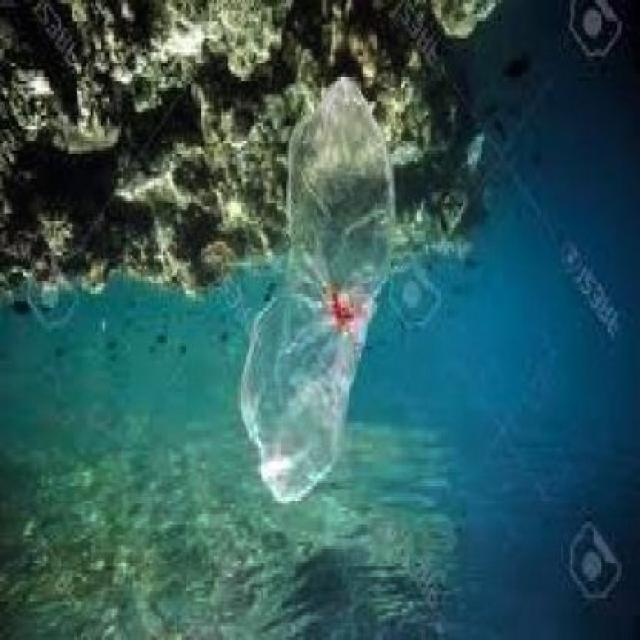pbag: (230, 69, 396, 511)
